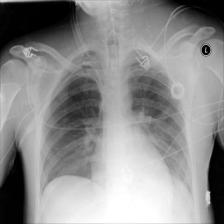normal: (36, 42, 196, 203)
